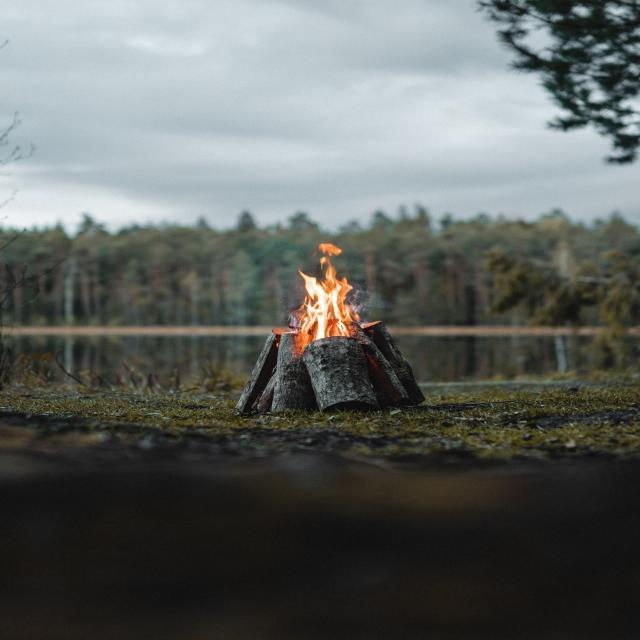Fire: (272, 240, 374, 356)
